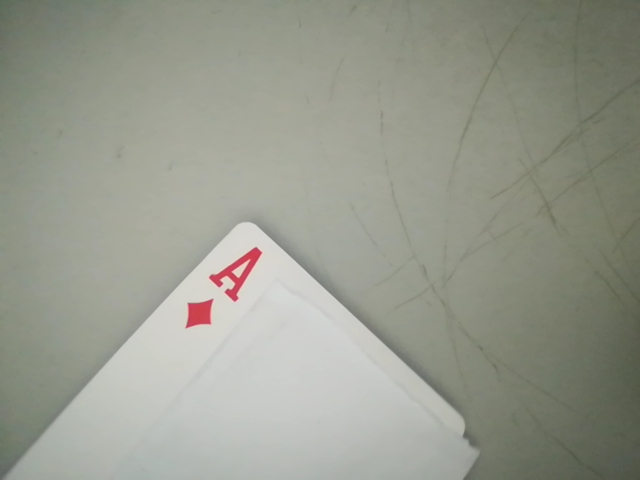fk a: (173, 239, 271, 332)
